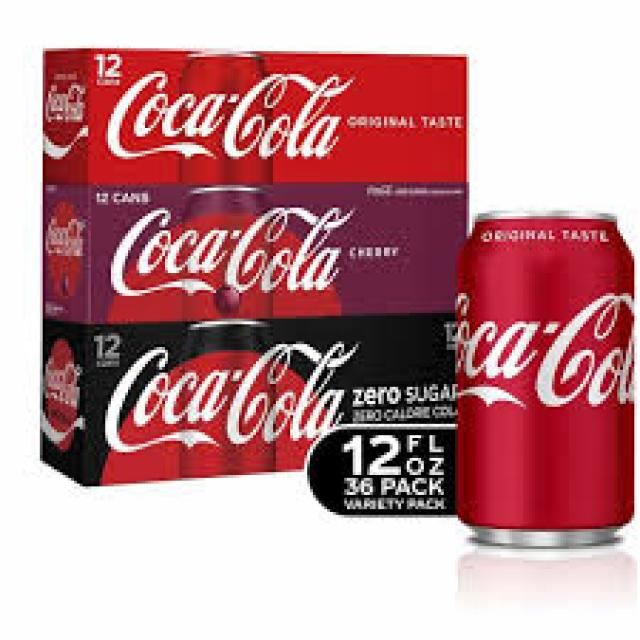Coca-Cola: (446, 198, 640, 559)
